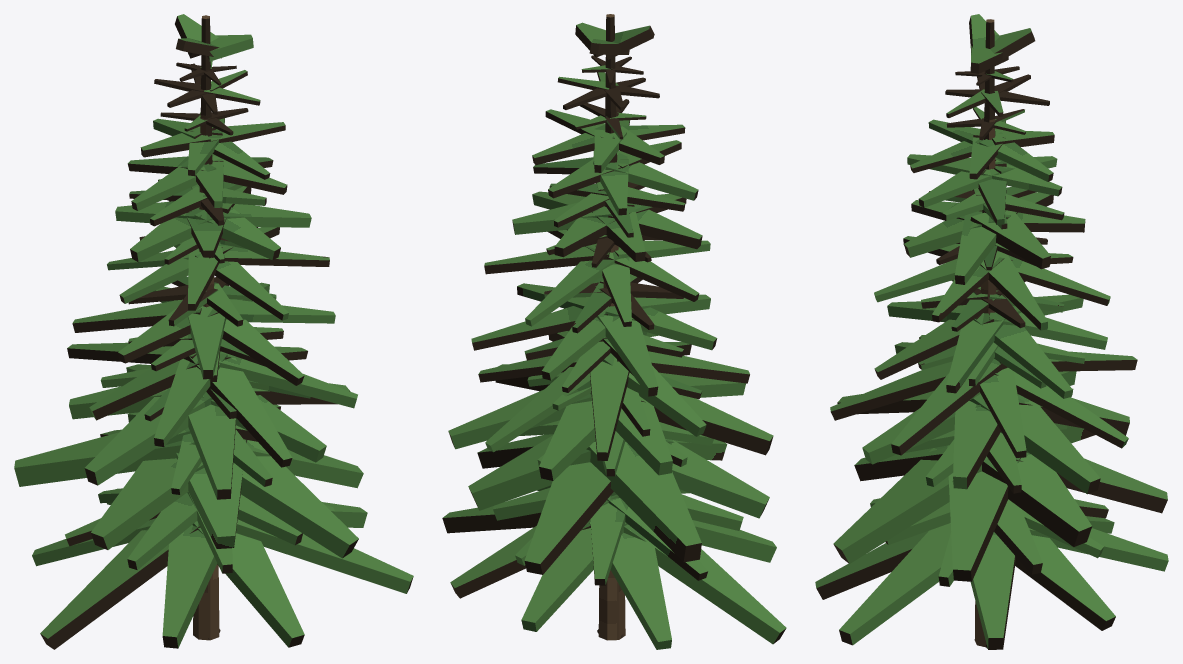
Rendered from conifer_01_godot.glb.
3 renders of one model, left to right at view 1: azimuth 30°, elevation 25°; view 2: azimuth 150°, elevation 25°; view 3: azimuth 270°, elevation 25°, orthographic.
Parts seen in each view (by area): view 1: conifer_01; view 2: conifer_01; view 3: conifer_01.
Boxes of the visible parts, x1,y1,x2,y2 form: conifer_01: (14, 14, 413, 649); conifer_01: (442, 14, 786, 649); conifer_01: (815, 14, 1168, 649).
Size of what is drawn, in the model's own units: 4.35 by 7.83 by 4.03.
Materials: 2 (2 with a texture image).
